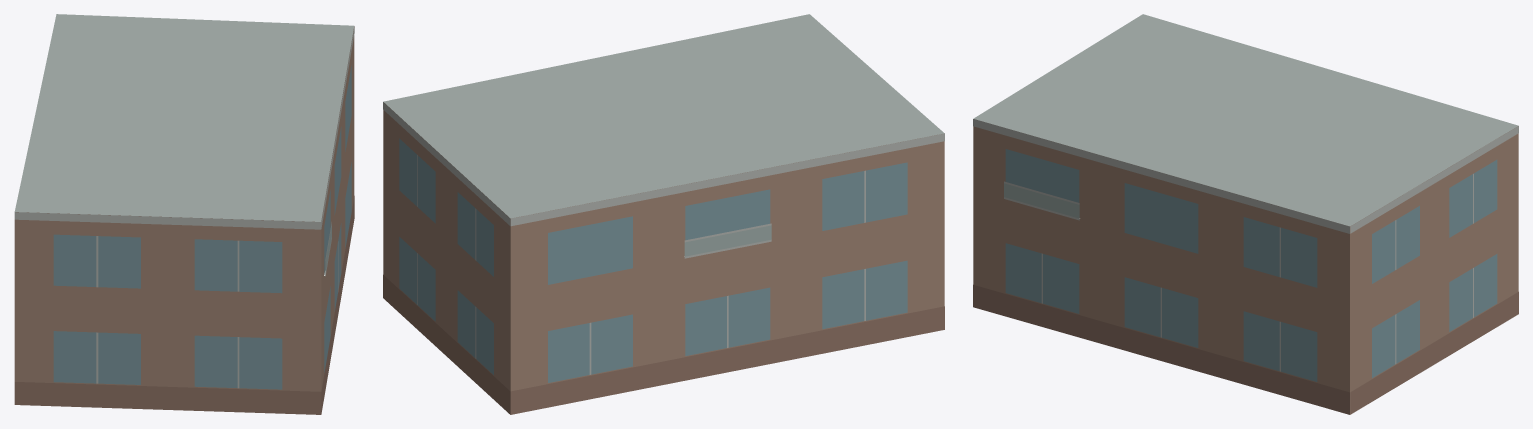
The model's file is survey-upis-32698827.glb.
3 views of the same model, side by side, from view 1: azimuth 30°, elevation 25°; view 2: azimuth 150°, elevation 25°; view 3: azimuth 270°, elevation 25° (orthographic). The views are drawn at different scales.
Parts seen in each view (by area): view 1: survey-upis-32698827.tmp; view 2: survey-upis-32698827.tmp; view 3: survey-upis-32698827.tmp.
Part boxes in pixels (<box>): survey-upis-32698827.tmp: <box>14,14,354,414</box>; survey-upis-32698827.tmp: <box>383,14,944,414</box>; survey-upis-32698827.tmp: <box>973,14,1518,414</box>.
Bounding box in the file's own units: 14.76 × 6.1 × 16.02.
